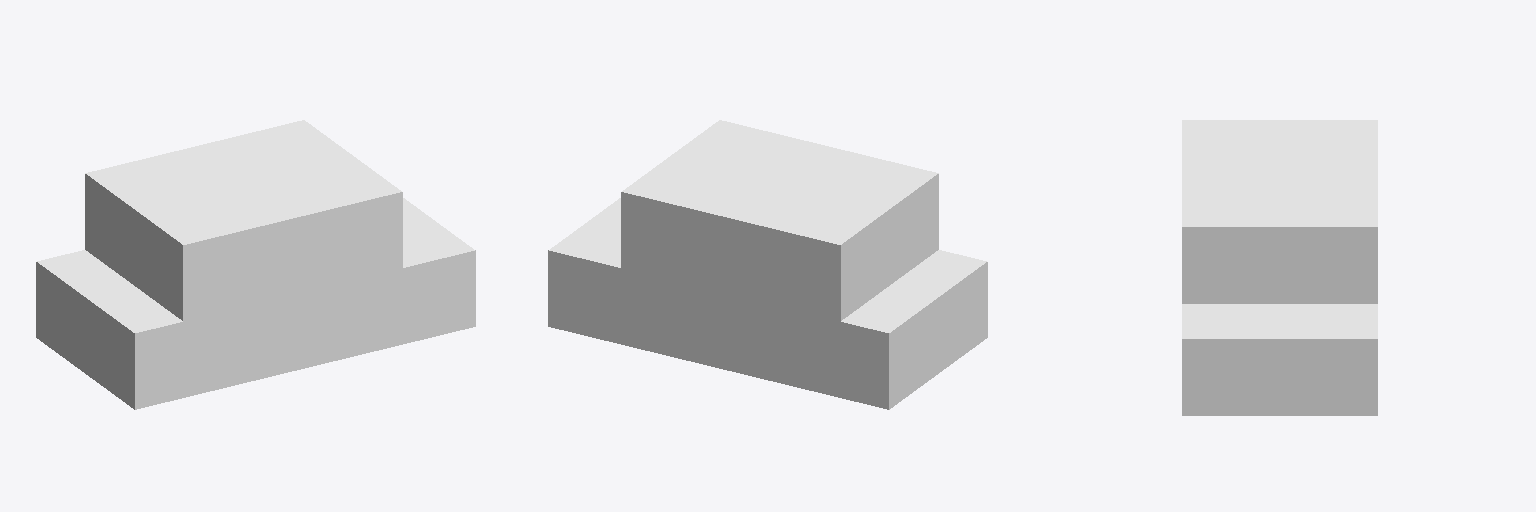
File: purple_car.obj
3 views of the same model, side by side, from view 1: azimuth 30°, elevation 25°; view 2: azimuth 150°, elevation 25°; view 3: azimuth 270°, elevation 25° (orthographic).
Parts seen in each view (by area): view 1: object 1; view 2: object 1; view 3: object 1.
Part boxes in pixels (x1,y1,x2,y2): object 1: (36, 120, 475, 409); object 1: (548, 120, 987, 409); object 1: (1182, 120, 1377, 415).
Bounding box in the file's own units: 1.4 × 0.6 × 0.7.